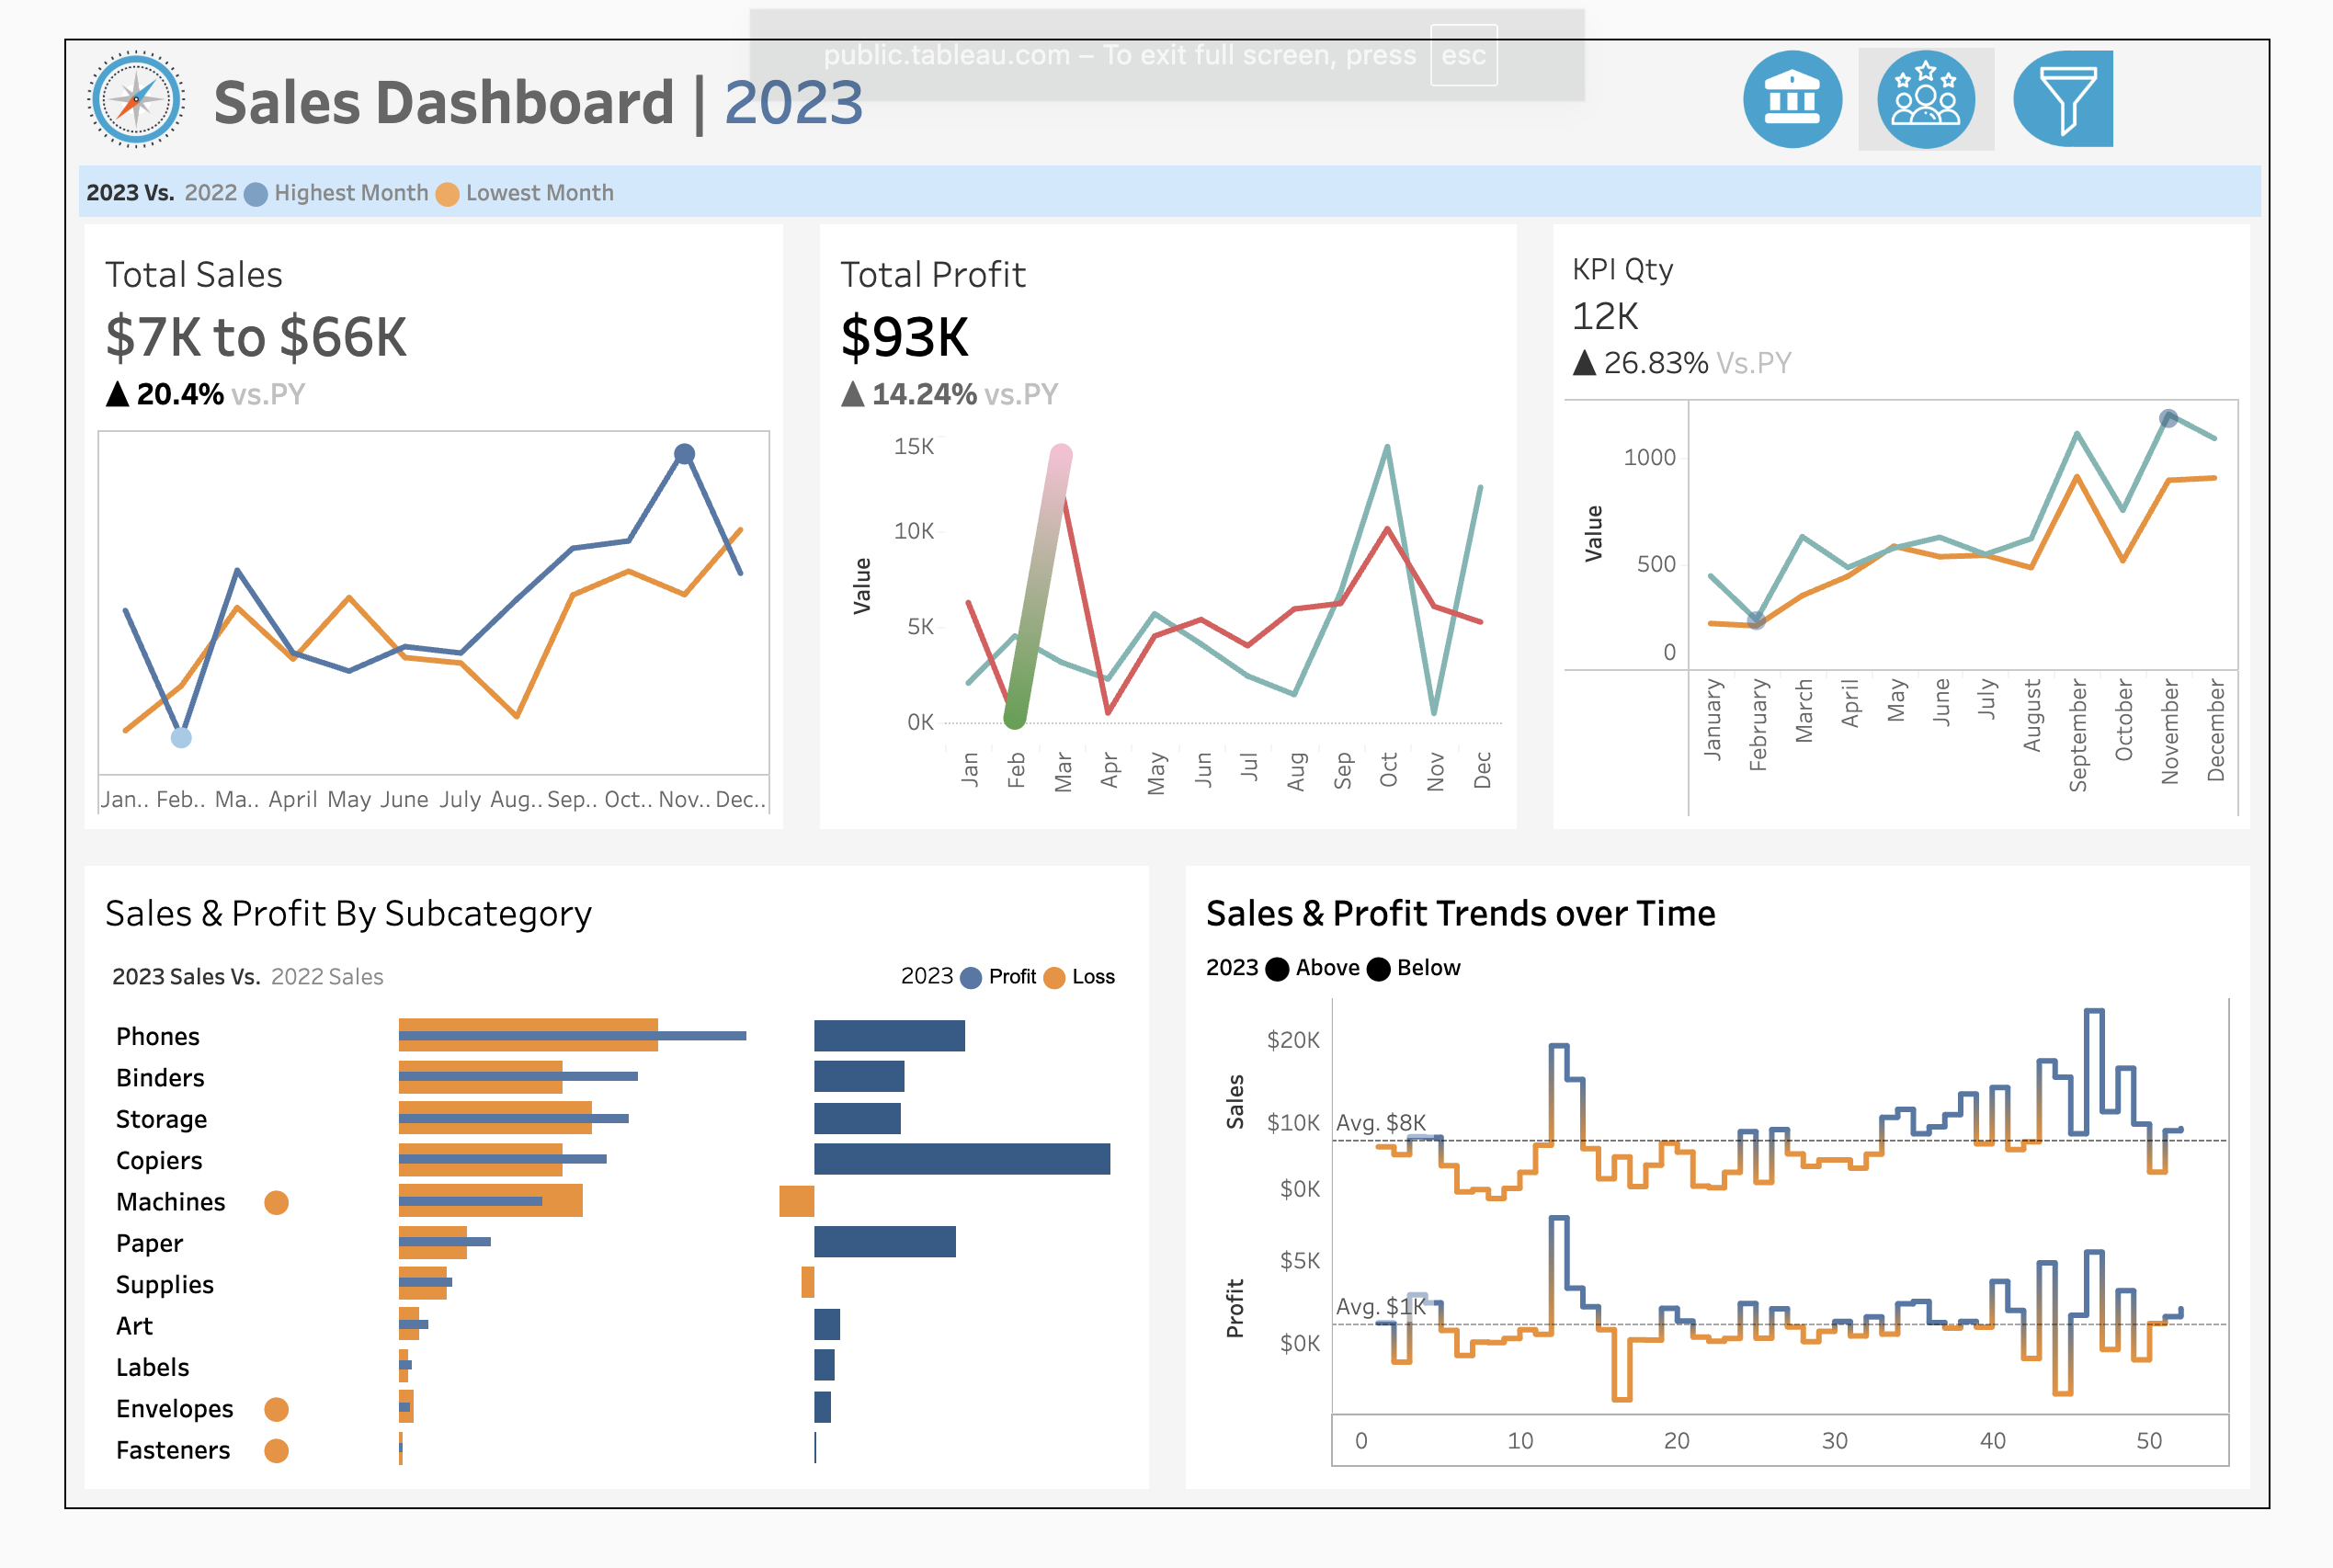

Layout of this report page (visuals, bound fields, positions):
{"tool":"tableau","page":{"name":"Sales Dashboard","canvas":[1200,800],"ordinal":0},"visuals":[{"type":"image","param":"Image/Icon - Logo.png","box":[1,1,76,64]},{"type":"text","box":[77,1,831,64]},{"type":"dashboard-object","box":[908,1,64,64]},{"type":"dashboard-object","box":[972,1,82,64]},{"type":"dashboard-object","box":[1054,1,65,64]},{"type":"worksheet","title":"Lagend KPI","mark":"Automatic","box":[1,65,1198,36]},{"type":"text","box":[870,74,279,30]},{"type":"worksheet","title":"KPI Sales","mark":"Line","rows":["Calculation_3046709044695040"],"cols":["Order Date"],"box":[1,101,400,339]},{"type":"worksheet","title":"KPI Profit","mark":"Automatic","rows":["Calculation_2866389696548869"],"cols":["Order Date"],"box":[401,101,399,339]},{"type":"worksheet","title":"KPI Qty","mark":"Automatic","rows":["Calculation_1680911564464133"],"cols":["Order Date"],"box":[800,101,399,339]},{"type":"parameter","param":"[Parameters].[Parameter 1]","box":[870,104,279,52]},{"type":"blank","box":[870,156,279,50]},{"type":"text","box":[870,206,279,25]},{"type":"filter","title":"KPI Sales","param":"[federated.0l0ov0o1hg8tb014vovjt03lc225].[none:Category:nk]","box":[870,231,279,52]},{"type":"filter","title":"KPI Sales","param":"[federated.0l0ov0o1hg8tb014vovjt03lc225].[none:Sub-Category:nk]","box":[870,283,279,52]},{"type":"text","box":[870,335,279,25]},{"type":"filter","title":"KPI Sales","param":"[federated.0l0ov0o1hg8tb014vovjt03lc225].[none:Region:nk]","box":[870,360,279,52]},{"type":"filter","title":"KPI Sales","param":"[federated.0l0ov0o1hg8tb014vovjt03lc225].[none:State:nk]","box":[870,412,279,52]},{"type":"text","box":[18,457,565,35]},{"type":"text","box":[617,457,565,34]},{"type":"filter","title":"KPI Sales","param":"[federated.0l0ov0o1hg8tb014vovjt03lc225].[none:City:nk]","box":[870,464,279,52]},{"type":"text","box":[617,491,565,25]},{"type":"worksheet","title":"Lagend of Subcategory","mark":"Automatic","box":[18,492,433,35]},{"type":"text","box":[451,492,132,35]},{"type":"worksheet","title":"Weekly Trends","mark":"Automatic","rows":["Calculation_2986923081879552","Calculation_2866389694742530"],"cols":["Order Date"],"box":[617,516,565,266]},{"type":"worksheet","title":"SubCategory Comparision","mark":"Bar","rows":["Sub-Category","Calculation_1680911570046984"],"cols":["Calculation_2986923089645570","Calculation_2986923081879552","Calculation_2866389694742530"],"box":[18,527,565,254.9]}]}

Visuals, with their boxes on the page's 1200x800 design canvas (x1, y1, x2, y2). These are canvas units, not pixel positions in the 2333x1568 screenshot, which may show the page scaled, cropped or inside an application window:
image: bbox=[1, 1, 77, 65]
text: bbox=[77, 1, 908, 65]
dashboard-object: bbox=[908, 1, 972, 65]
dashboard-object: bbox=[972, 1, 1054, 65]
dashboard-object: bbox=[1054, 1, 1119, 65]
"Lagend KPI" worksheet: bbox=[1, 65, 1199, 101]
text: bbox=[870, 74, 1149, 104]
"KPI Sales" worksheet (Line marks): bbox=[1, 101, 401, 440]
"KPI Profit" worksheet: bbox=[401, 101, 800, 440]
"KPI Qty" worksheet: bbox=[800, 101, 1199, 440]
parameter: bbox=[870, 104, 1149, 156]
blank: bbox=[870, 156, 1149, 206]
text: bbox=[870, 206, 1149, 231]
"KPI Sales" filter: bbox=[870, 231, 1149, 283]
"KPI Sales" filter: bbox=[870, 283, 1149, 335]
text: bbox=[870, 335, 1149, 360]
"KPI Sales" filter: bbox=[870, 360, 1149, 412]
"KPI Sales" filter: bbox=[870, 412, 1149, 464]
text: bbox=[18, 457, 583, 492]
text: bbox=[617, 457, 1182, 491]
"KPI Sales" filter: bbox=[870, 464, 1149, 516]
text: bbox=[617, 491, 1182, 516]
"Lagend of Subcategory" worksheet: bbox=[18, 492, 451, 527]
text: bbox=[451, 492, 583, 527]
"Weekly Trends" worksheet: bbox=[617, 516, 1182, 782]
"SubCategory Comparision" worksheet (Bar marks): bbox=[18, 527, 583, 782]
